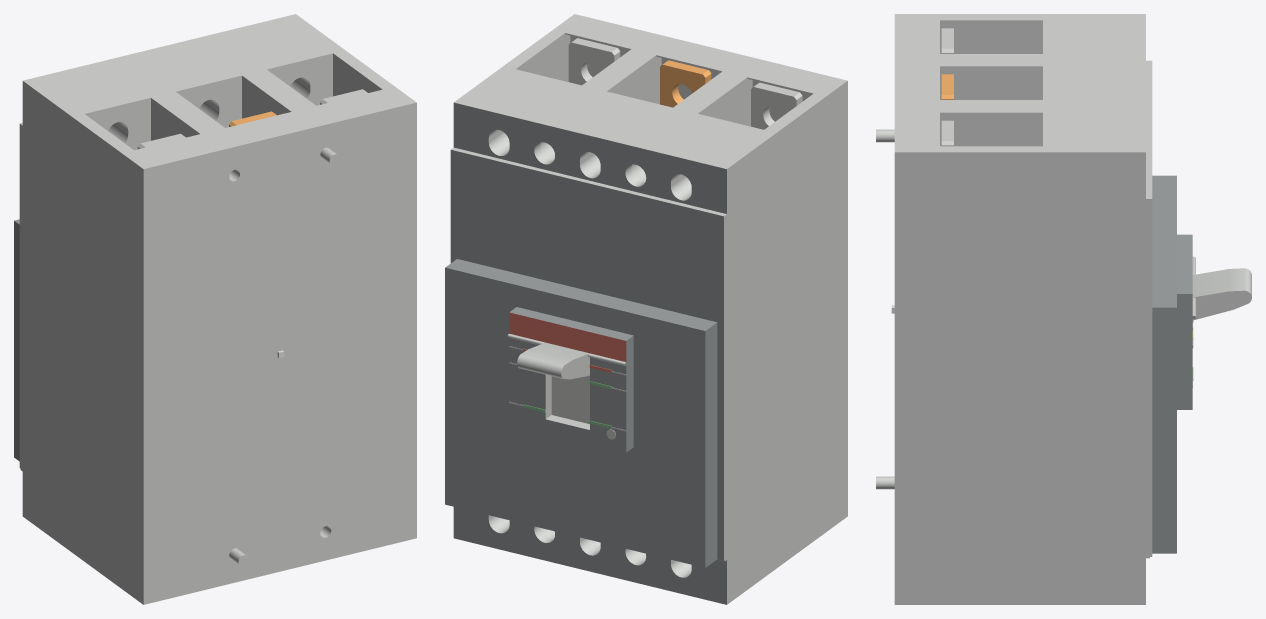
3 views of the same model, side by side, from view 1: azimuth 30°, elevation 25°; view 2: azimuth 150°, elevation 25°; view 3: azimuth 270°, elevation 25° (orthographic). The views are drawn at different scales.
Visible parts, largest first — view 1: Body1; view 2: Body1; view 3: Body1.
Boxes of the visible parts, x1,y1,x2,y2 form: Body1: (14,14,416,604); Body1: (445,14,847,604); Body1: (876,14,1251,604).
Size of the model in its own units: 105 by 160 by 120.
